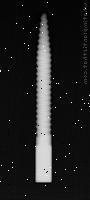3M ESPE: (35, 12, 53, 183)
